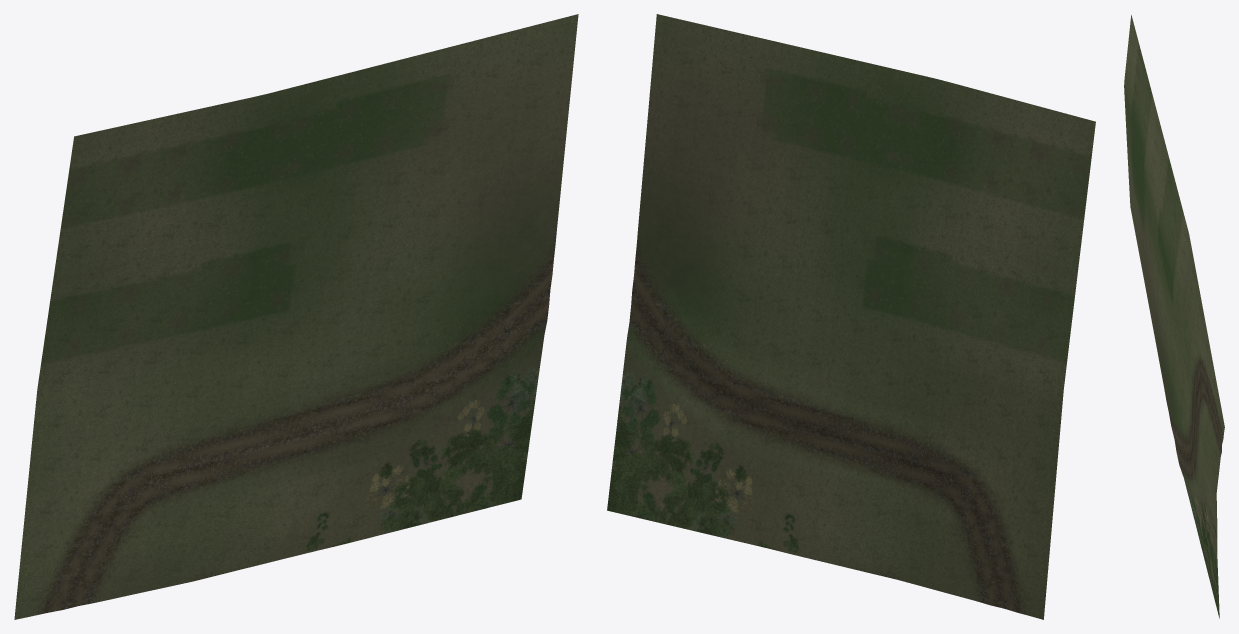
Rendered from terrain_core_03_01.obj.
3 views of the same model, side by side, from view 1: azimuth 30°, elevation 25°; view 2: azimuth 150°, elevation 25°; view 3: azimuth 270°, elevation 25° (orthographic). The views are drawn at different scales.
Parts seen in each view (by area): view 1: terrain_core_03_01; view 2: terrain_core_03_01; view 3: terrain_core_03_01.
Boxes of the visible parts, x1,y1,x2,y2 form: terrain_core_03_01: (14,14,578,619); terrain_core_03_01: (607,14,1095,619); terrain_core_03_01: (1124,15,1224,618).
Size of the model in its own units: 32 by 32 by 7.08.
1 material, 1 textured.
